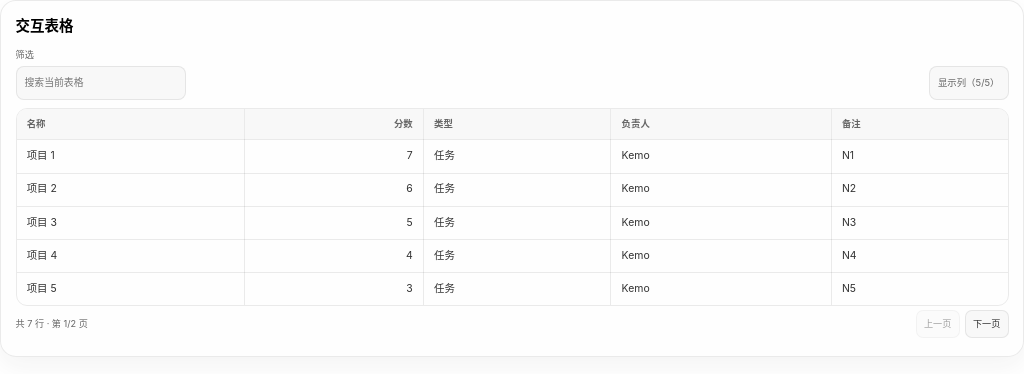
Test: MarkdownMessage › filters, sorts, paginates and hides columns in data tables
The image size is (1024, 374).
Expected: the text "共 7 行 · 第 1/2 页" is shown, [16, 317, 88, 331]
Click the button "下一页" at {"x": 987, "y": 324}, box [965, 310, 1008, 338]
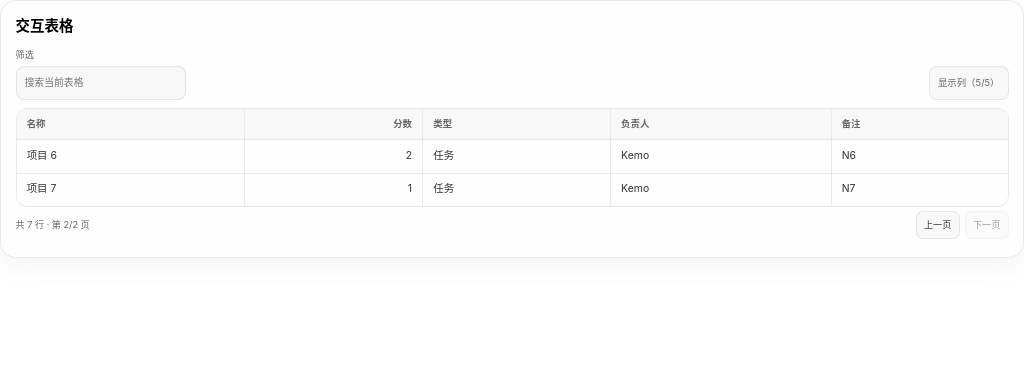
Result: the text "项目 7" is shown at [16, 173, 244, 206]
Type "项目 2" into the field with placeholder "搜索当前表格" at {"x": 101, "y": 83}, box [16, 66, 186, 100]
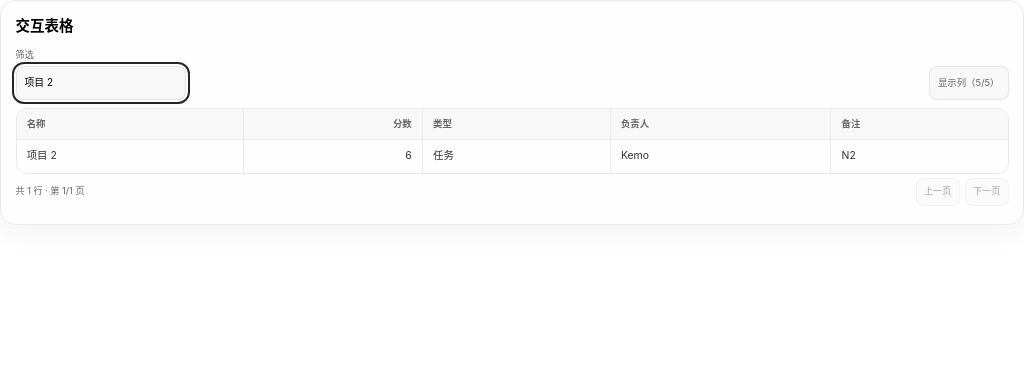
Result: the text "项目 2" is shown at [16, 140, 244, 172]
Result: the text "项目 7" is gone
Click the heading "显示列（5/5）" at {"x": 969, "y": 83}, box [929, 66, 1008, 100]
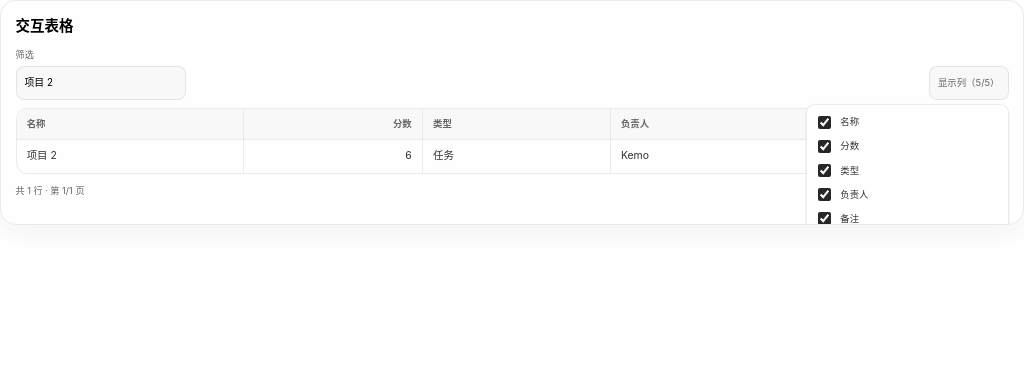
Click the checkbox labelled "备注" at {"x": 825, "y": 219}, box [818, 212, 832, 226]
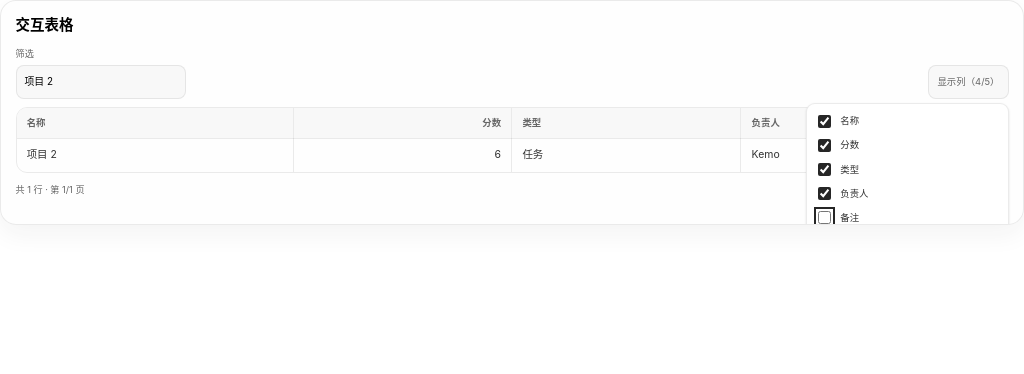
Clear the field with placeholder "搜索当前表格" at {"x": 101, "y": 82}, box [16, 65, 186, 99]
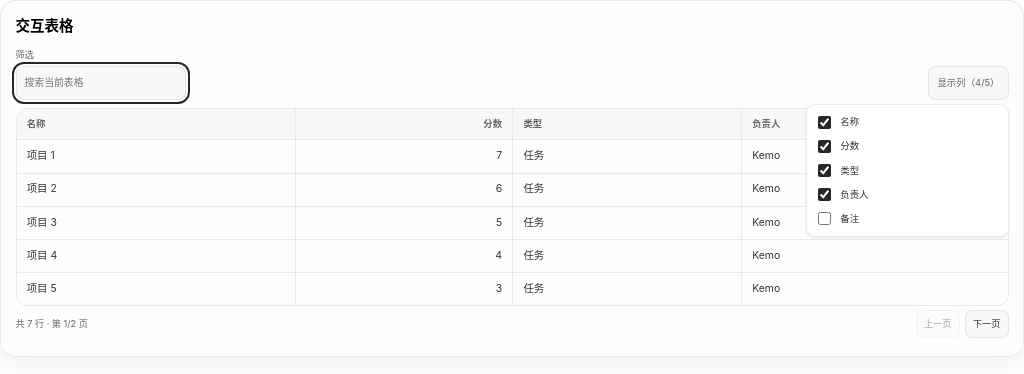
Click the button "分数" at {"x": 493, "y": 124}, box [483, 117, 502, 131]
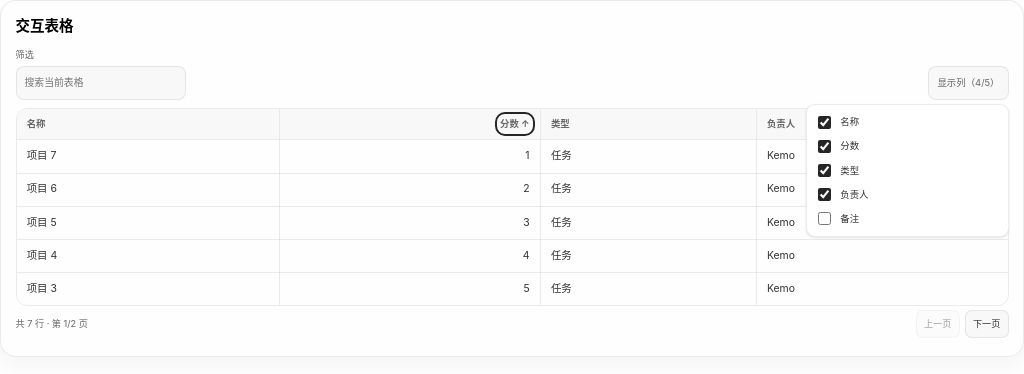
Result: the row "项目 7 1 任务 Kemo" is shown at [16, 140, 1008, 173]
